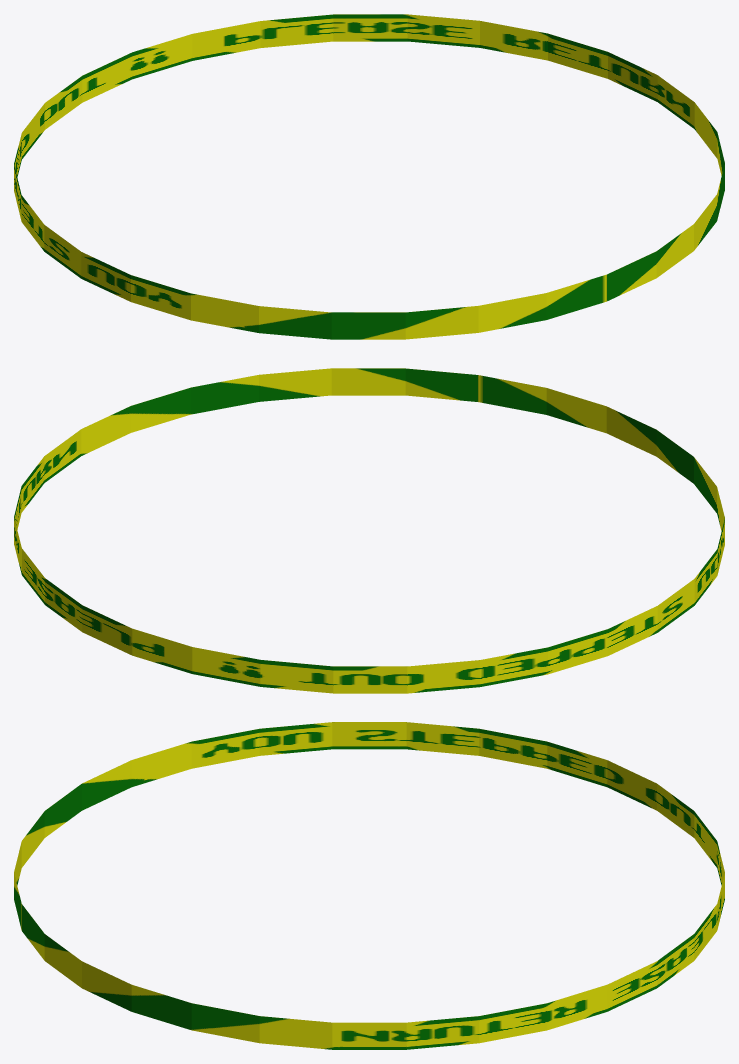
The model's file is warning_tape.fbx.
The picture shows the model from 3 angles, top to bottom: view 1: azimuth 30°, elevation 25°; view 2: azimuth 150°, elevation 25°; view 3: azimuth 270°, elevation 25°; orthographic projection.
Visible parts, largest first — view 1: Circle.001; view 2: Circle.001; view 3: Circle.001.
Boxes of the visible parts, x1,y1,x2,y2 form: Circle.001: (14, 14, 724, 339); Circle.001: (14, 368, 724, 693); Circle.001: (14, 722, 724, 1049).
Bounding box in the file's own units: 355 × 15 × 355.
